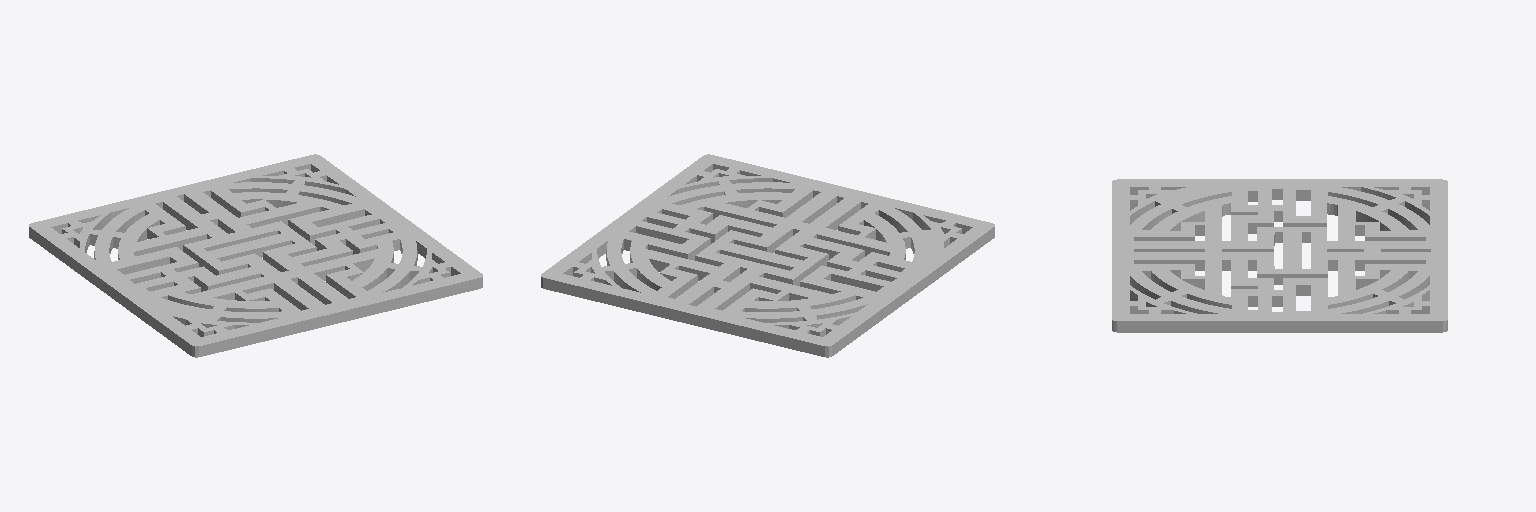
The model's file is GrateModel.obj.
3 renders of one model, left to right at view 1: azimuth 30°, elevation 25°; view 2: azimuth 150°, elevation 25°; view 3: azimuth 270°, elevation 25°, orthographic.
Parts seen in each view (by area): view 1: Plane; view 2: Plane; view 3: Plane.
Boxes of the visible parts, box(x1,y1,x2,y2) form: Plane: box(29, 154, 482, 357); Plane: box(541, 154, 994, 357); Plane: box(1112, 179, 1447, 332).
Bounding box in the file's own units: 2.01 × 0.0732 × 2.01.